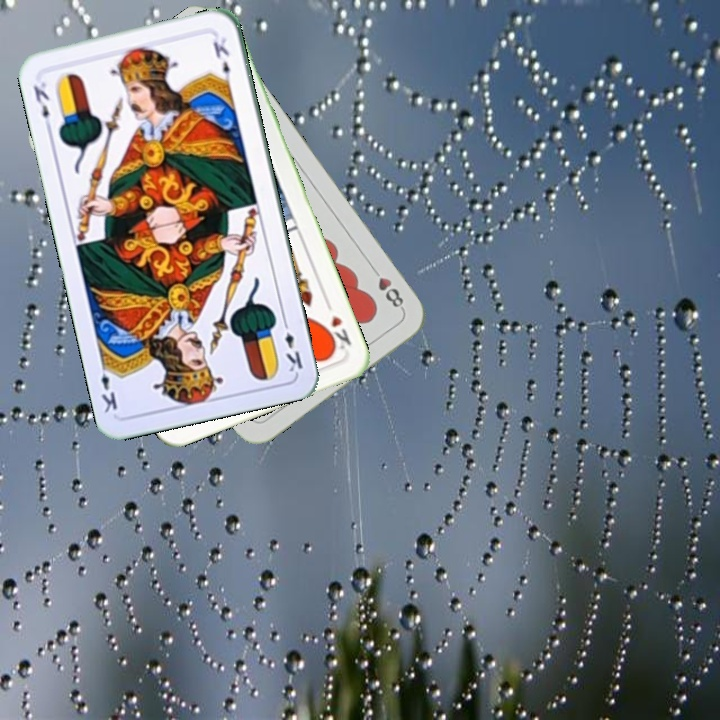EK: (279, 315, 306, 375), (29, 73, 54, 132)
H8: (367, 262, 407, 313)
HK: (321, 311, 354, 354)
